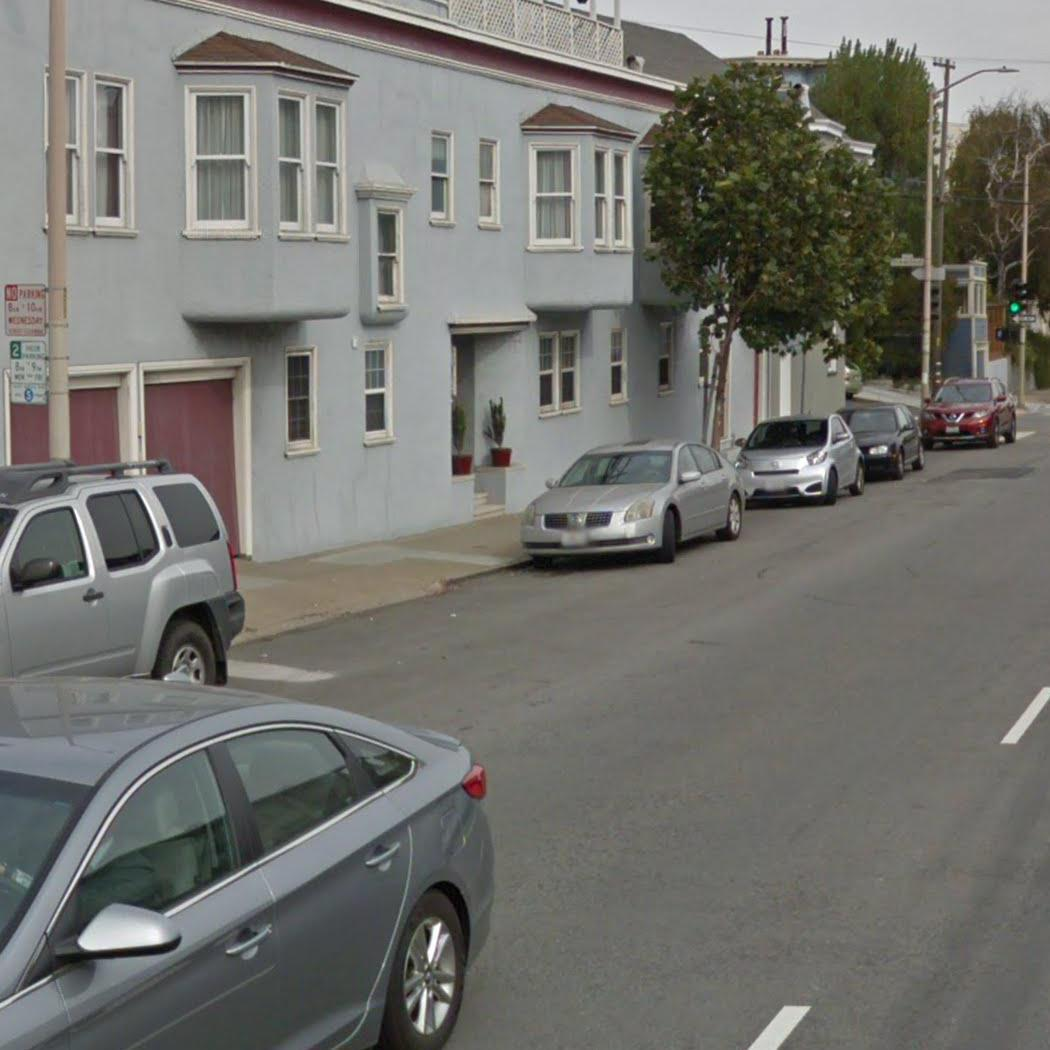2 Hour Parking: (0, 335, 55, 408)
No Parking: (0, 279, 55, 338)
